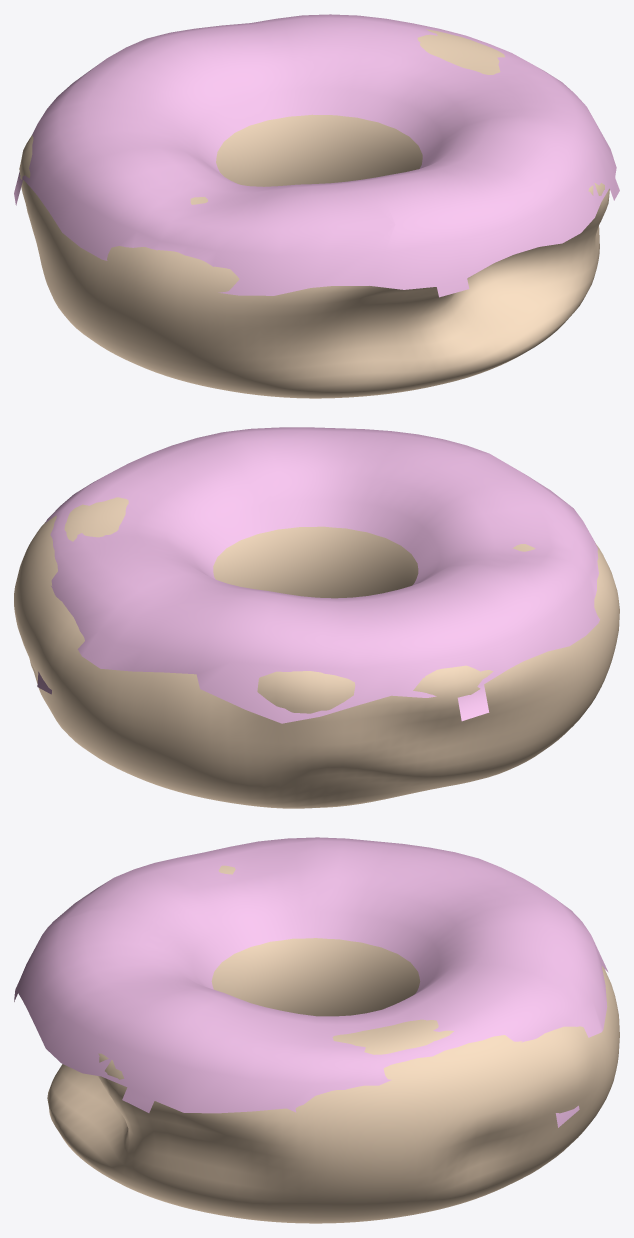
The model's file is donut.gltf.glb.
3 views of the same model, one above another, from view 1: azimuth 30°, elevation 25°; view 2: azimuth 150°, elevation 25°; view 3: azimuth 270°, elevation 25° (orthographic).
Visible parts, largest first — view 1: Icing, Donut; view 2: Icing, Donut; view 3: Icing, Donut.
Part boxes in pixels (x1,y1,x2,y2): Icing: (14, 14, 619, 297); Donut: (19, 29, 609, 398); Icing: (37, 427, 599, 723); Donut: (14, 497, 619, 808); Icing: (14, 837, 608, 1127); Donut: (47, 865, 619, 1223).
Size of what is drawn, in the model's own units: 0.1506 by 0.0545 by 0.15.
